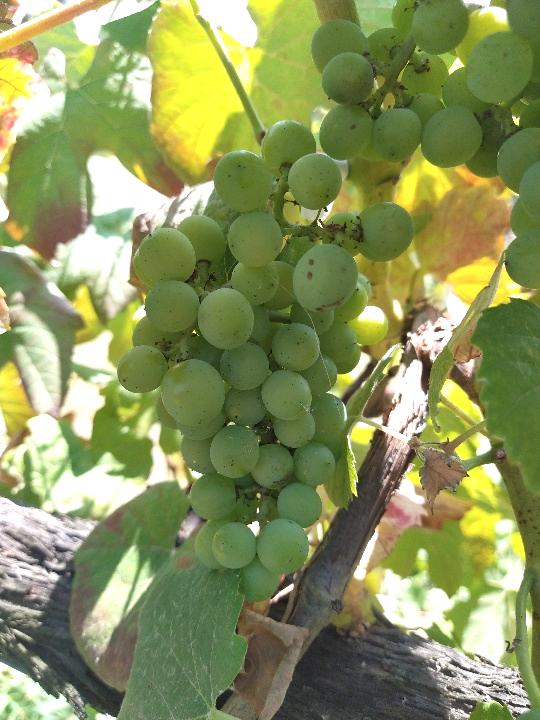grape: (106, 117, 418, 606)
